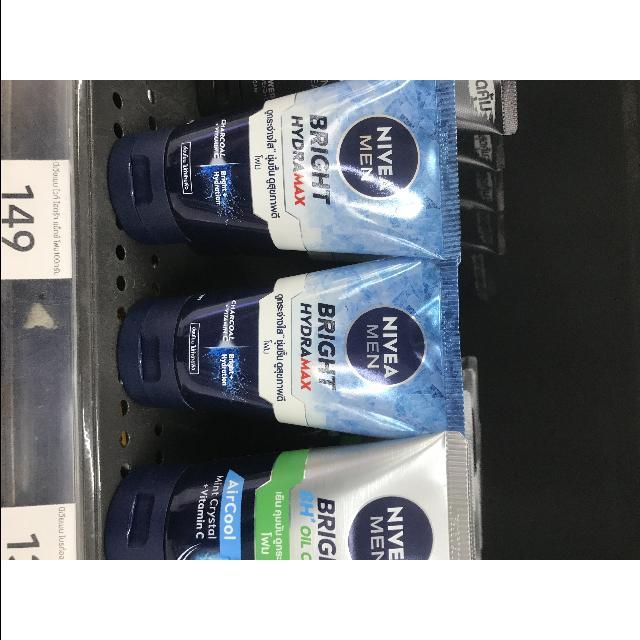Squeeze Tube: (103, 77, 462, 261), (116, 256, 456, 436), (105, 431, 480, 559)
